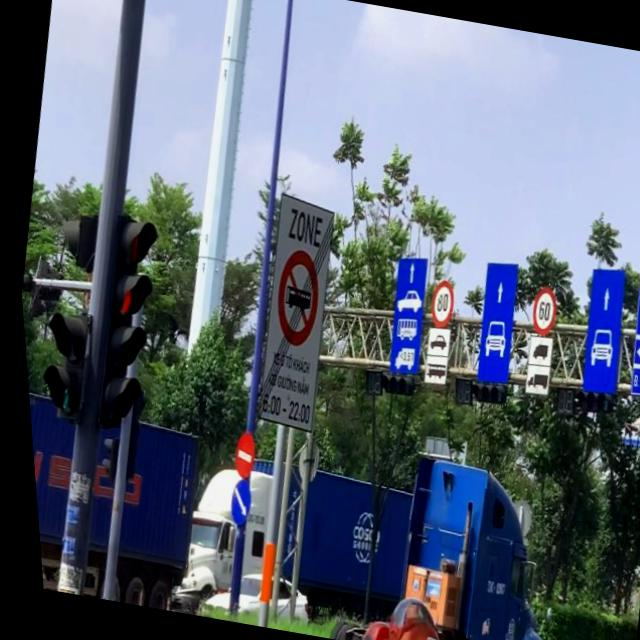Cam di nguoc chieu: (222, 429, 253, 480)
Toc do toi da cho phep: (521, 282, 556, 338), (420, 277, 454, 330)
Vong chuong ngai vat sang phai: (217, 476, 248, 528)
